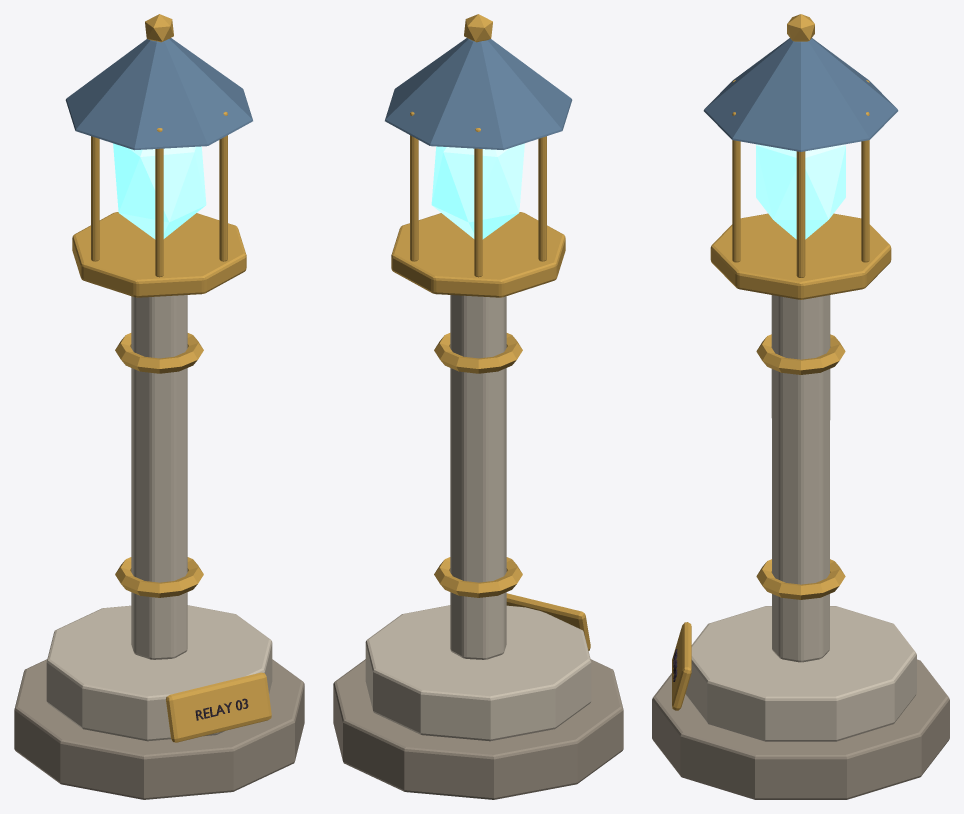
Rendered from relay_lantern.glb.
3 views of the same model, side by side, from view 1: azimuth 30°, elevation 25°; view 2: azimuth 150°, elevation 25°; view 3: azimuth 270°, elevation 25° (orthographic).
Visible parts, largest first — view 1: relay_lantern, dyn_crystal; view 2: relay_lantern, dyn_crystal; view 3: relay_lantern, dyn_crystal.
Part boxes in pixels (x1,y1,x2,y2): relay_lantern: (14,14,304,799); dyn_crystal: (113,143,206,239); relay_lantern: (333,14,623,799); dyn_crystal: (431,143,524,239); relay_lantern: (652,14,949,799); dyn_crystal: (756,144,845,239).
Bounding box in the file's own units: 1.71 × 4.85 × 1.8.
